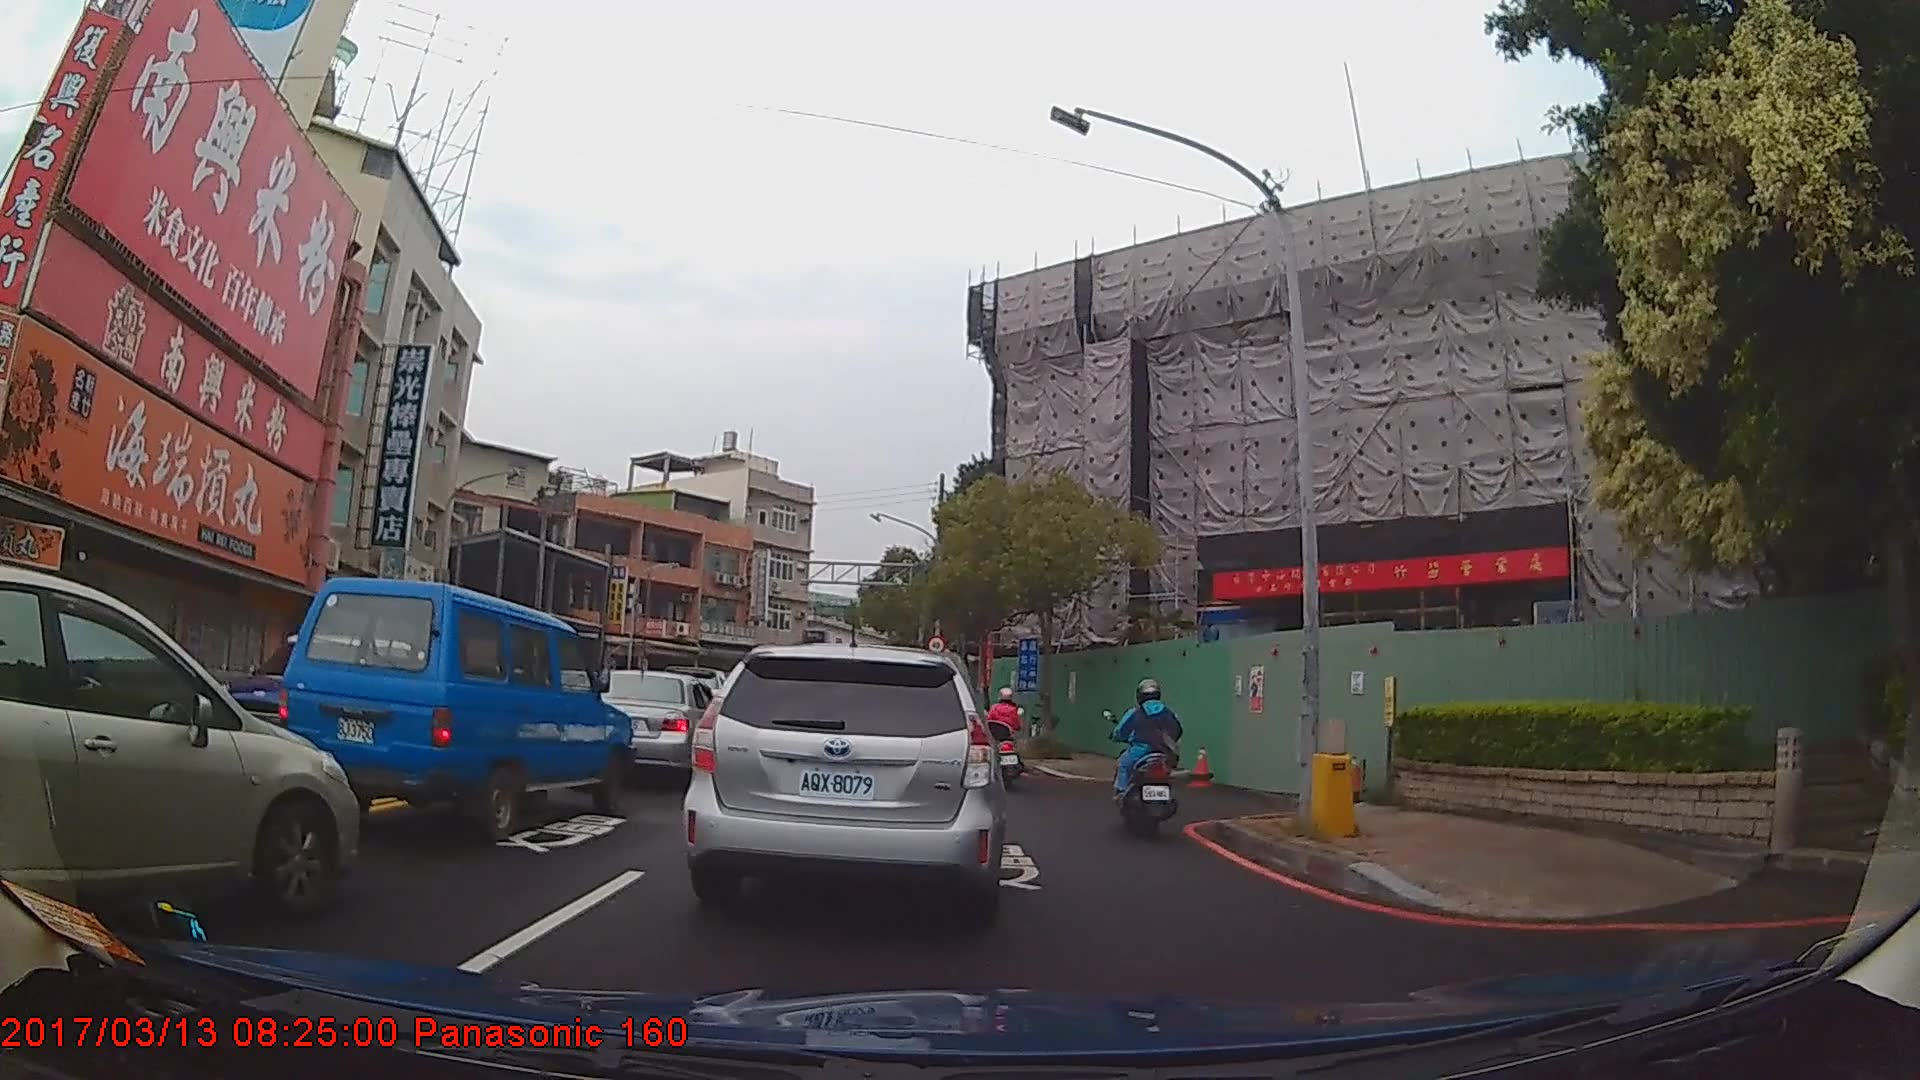rider: (1112, 679, 1182, 839), (986, 686, 1028, 790)
vehicle: (0, 562, 358, 937), (274, 574, 634, 838), (681, 640, 1006, 929), (584, 668, 724, 782)
